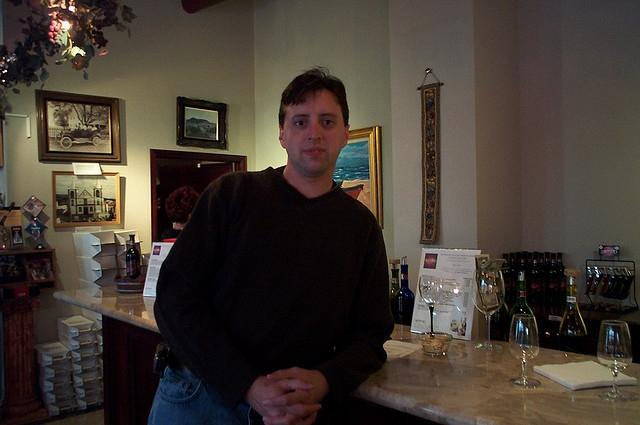grape: (51, 20, 58, 27), (48, 25, 54, 32), (54, 26, 60, 32), (48, 38, 54, 43), (20, 54, 24, 58), (51, 41, 56, 44)
